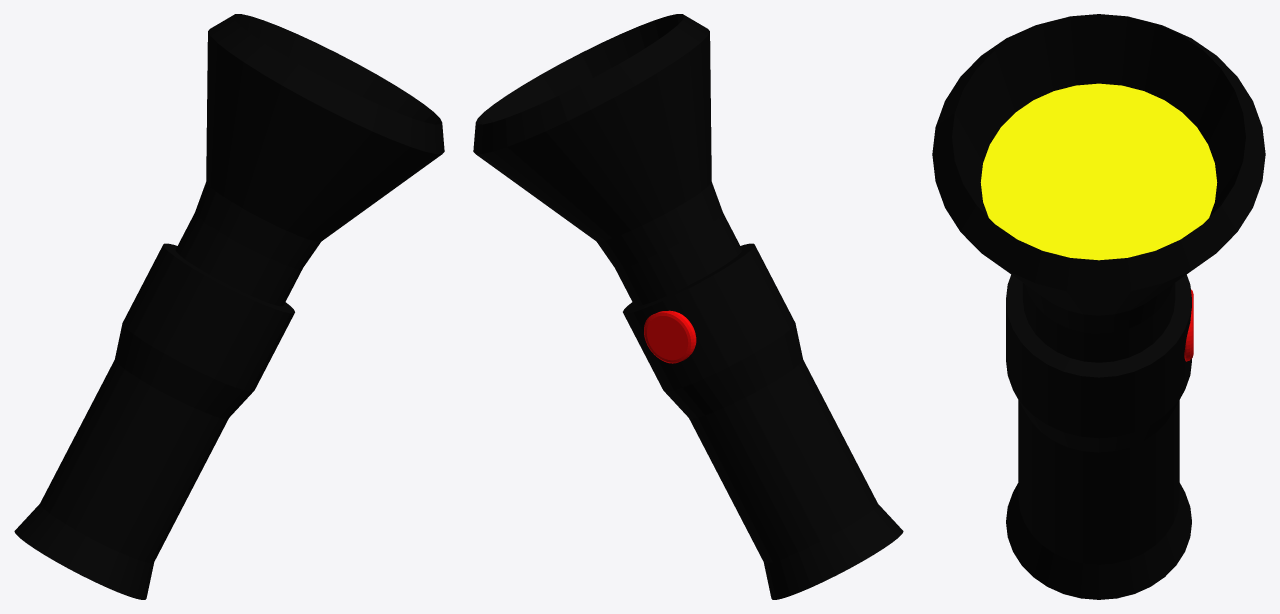
Rendered from Torche.fbx.
3 views of the same model, side by side, from view 1: azimuth 30°, elevation 25°; view 2: azimuth 150°, elevation 25°; view 3: azimuth 270°, elevation 25° (orthographic). The views are drawn at different scales.
Visible parts, largest first — view 1: Cylinder.002, Cone; view 2: Cylinder.002, Cone, Torus.001; view 3: Cylinder.002, Cone, Cone.001.
Part boxes in pixels (left/top/right/bottom): Cylinder.002: left=14, top=182, right=320, bottom=599; Cone: left=206, top=14, right=444, bottom=241; Cylinder.002: left=597, top=182, right=903, bottom=599; Cone: left=473, top=14, right=711, bottom=241; Torus.001: left=644, top=310, right=696, bottom=363; Cylinder.002: left=1006, top=274, right=1191, bottom=599; Cone: left=932, top=14, right=1265, bottom=315; Cone.001: left=980, top=83, right=1217, bottom=260.
Size of the model in its own units: 302 by 381 by 175.
